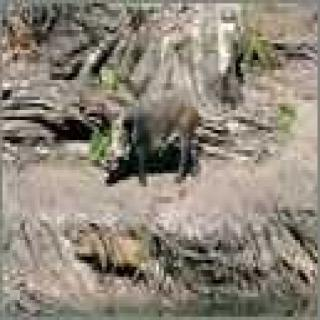Pig: (109, 90, 214, 184)
